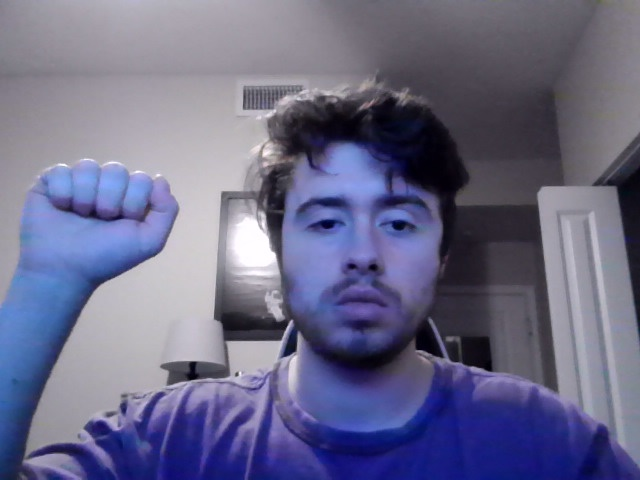a: (18, 157, 181, 288)
